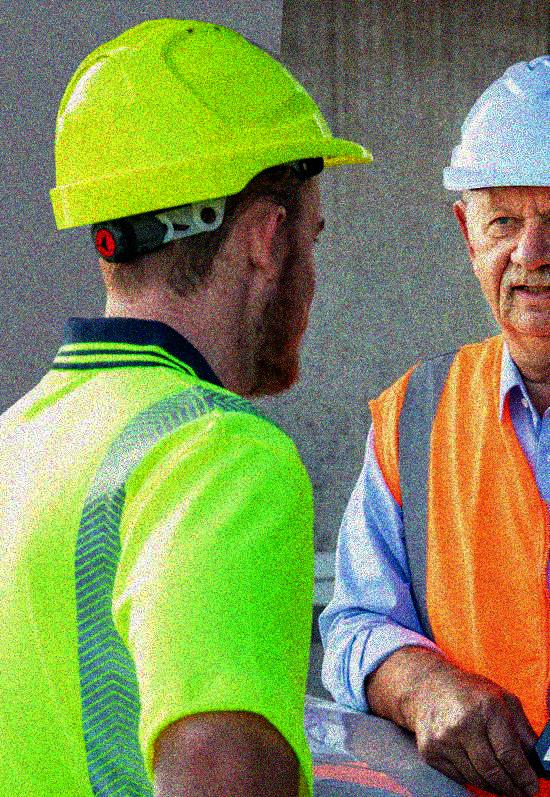helmet: (43, 13, 375, 391), (439, 54, 550, 371)
